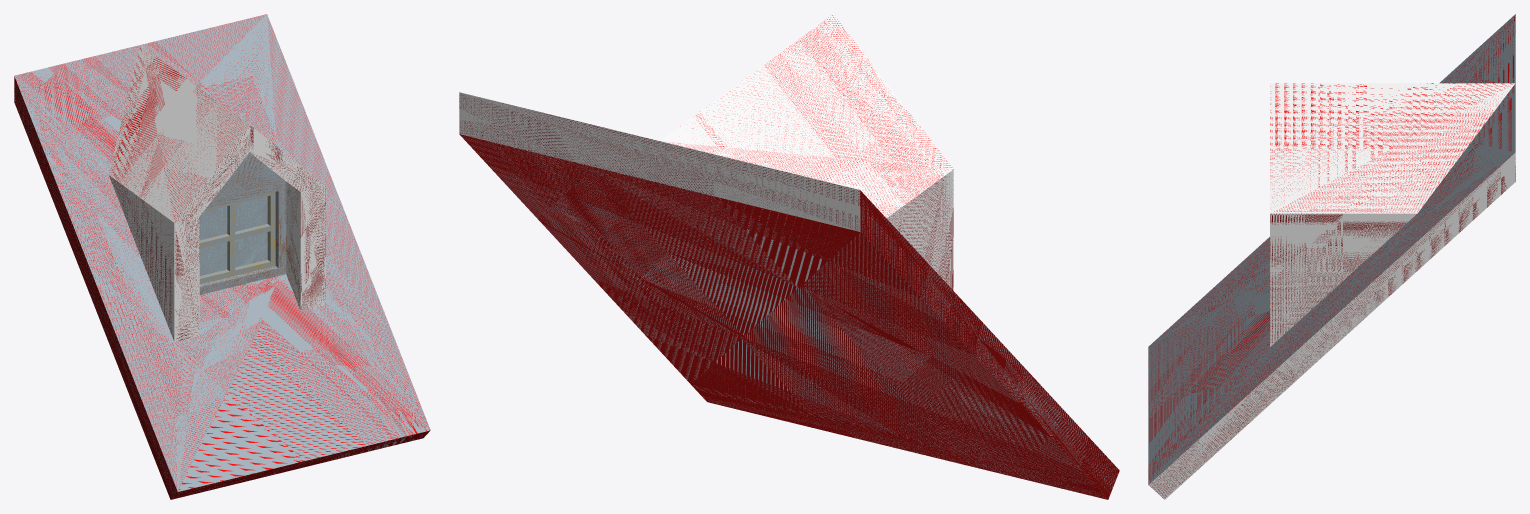
File: roof_dormer5.fbx
3 views of the same model, side by side, from view 1: azimuth 30°, elevation 25°; view 2: azimuth 150°, elevation 25°; view 3: azimuth 270°, elevation 25° (orthographic). The views are drawn at different scales.
Visible parts, largest first — view 1: Mesh1_sloped_roof_3_1 Model; view 2: Mesh1_sloped_roof_3_1 Model; view 3: Mesh1_sloped_roof_3_1 Model.
Part boxes in pixels (x1,y1,x2,y2): Mesh1_sloped_roof_3_1 Model: (14,14,430,499); Mesh1_sloped_roof_3_1 Model: (459,14,1119,499); Mesh1_sloped_roof_3_1 Model: (1148,14,1515,499).
Bounding box in the file's own units: 1 × 1.17 × 1.12.
